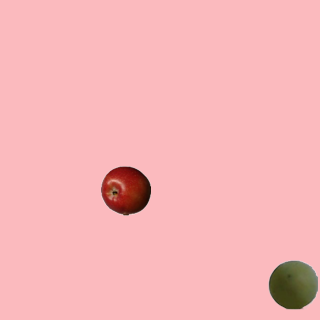Apple Braeburn: (100, 165, 150, 215)
Grape White 4: (267, 259, 317, 309)
